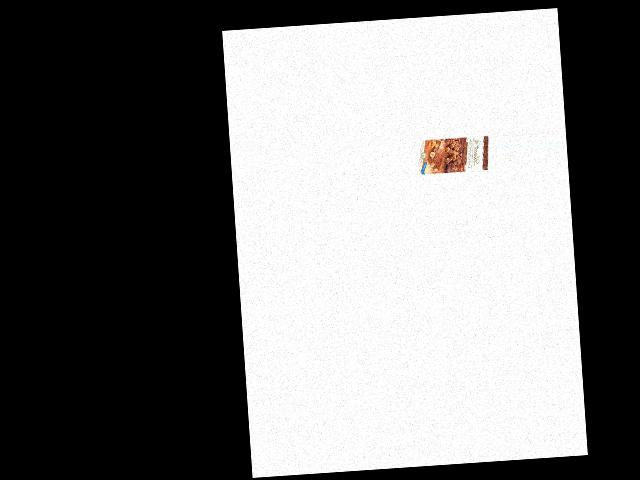chocolate: (417, 130, 488, 177)
